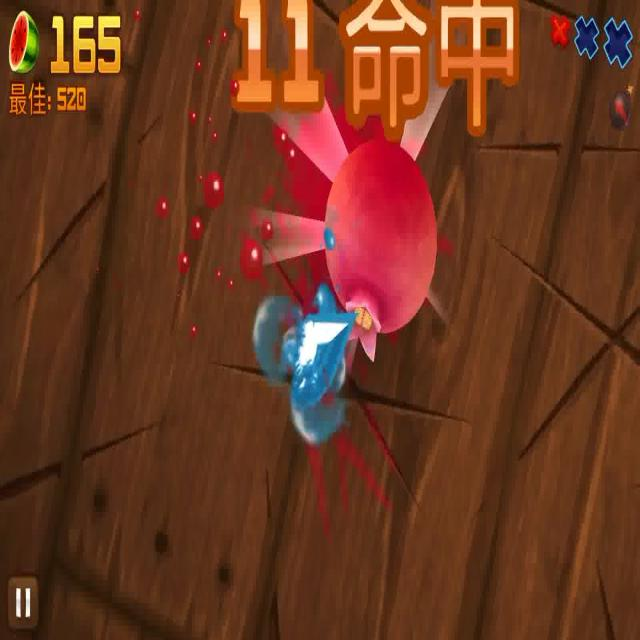fruit: (325, 141, 442, 345)
